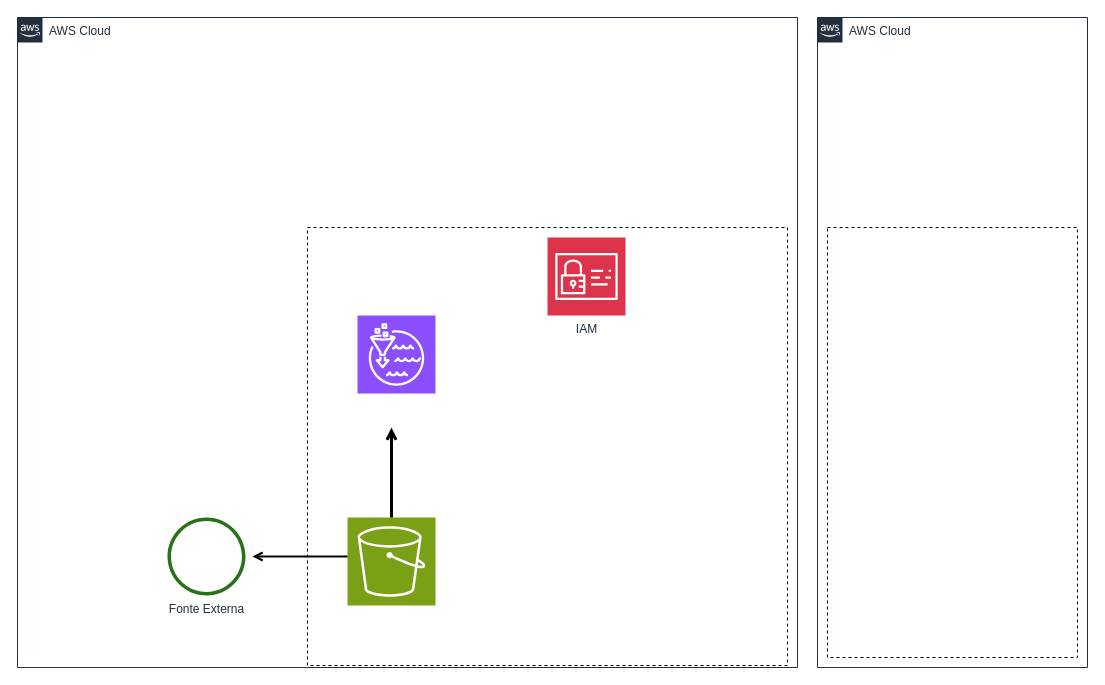
Some shapes in this 1105 by 685 pixel diagram are drawn without their labels. The shapes that lost their labels are listed below. From the top down, each one's box as (x1, y1, x2, y2) in pixels, then its label:
(356, 314, 436, 394): Lake formation
(346, 516, 436, 606): S3 Camada Bronze
